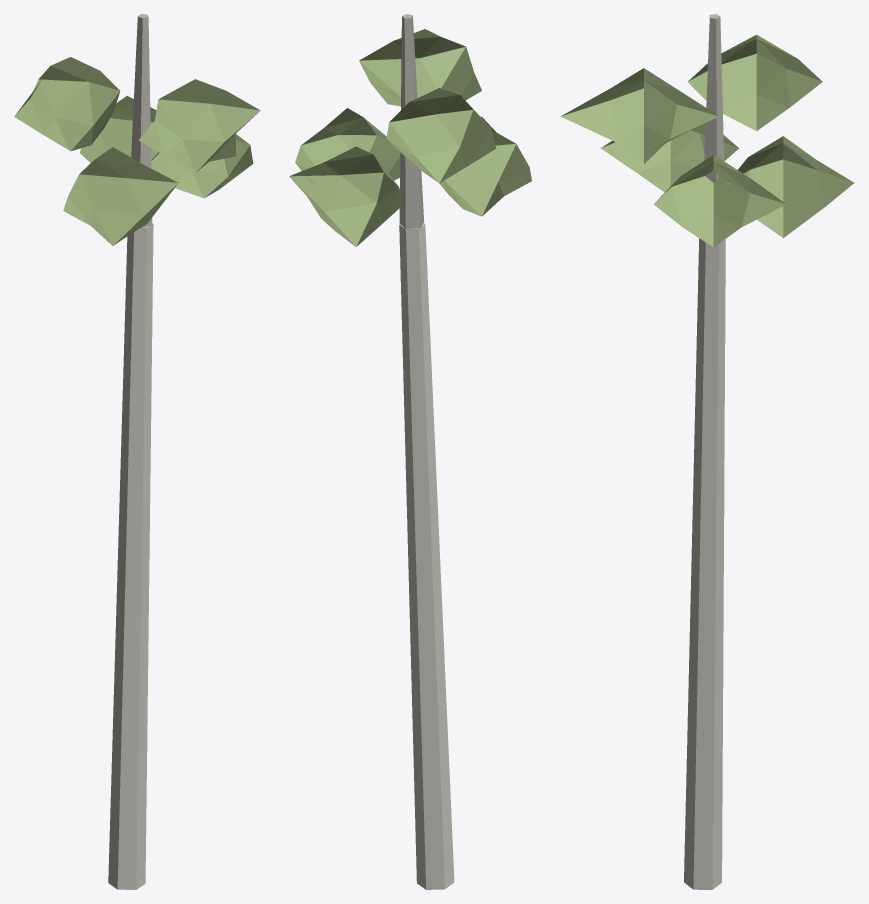
Rendered from birch_v10.glb.
3 views of the same model, side by side, from view 1: azimuth 30°, elevation 25°; view 2: azimuth 150°, elevation 25°; view 3: azimuth 270°, elevation 25° (orthographic). The views are drawn at different scales.
Visible parts, largest first — view 1: lod0; view 2: lod0; view 3: lod0.
Part boxes in pixels (x1,y1,x2,y2): lod0: [14, 14, 260, 889]; lod0: [289, 14, 531, 889]; lod0: [560, 14, 853, 889].
Size of what is drawn, in the model's own units: 1.73 by 6.6 by 2.01.
